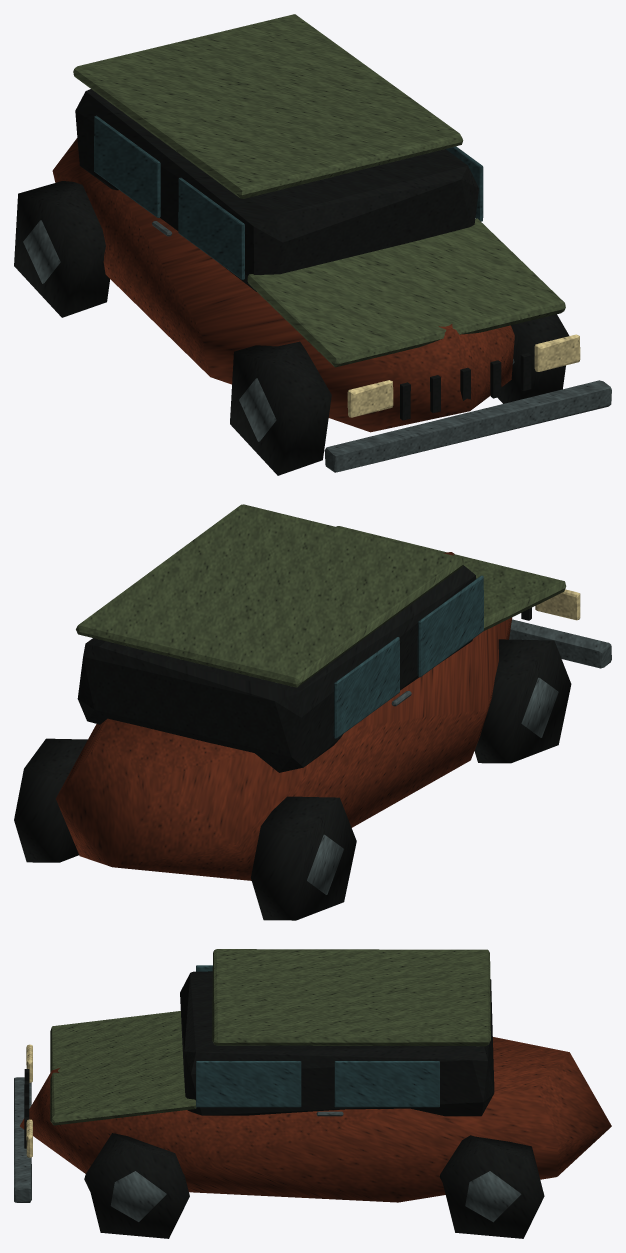
File: car_wreck_lod.glb
3 views of the same model, one above another, from view 1: azimuth 30°, elevation 25°; view 2: azimuth 150°, elevation 25°; view 3: azimuth 270°, elevation 25° (orthographic). The views are drawn at different scales.
Visible parts, largest first — view 1: roof.002, bodywork.002, hood.002, cabin.002, tire.008, tire.009, bumper.002, broken_window.008, broken_window.009, tire.010, headlamp.005, headlamp.004 (+3 smaller); view 2: bodywork.002, roof.002, cabin.002, tire.009, tire.008, tire.011, hood.002, broken_window.008, broken_window.009, bumper.002, hub.008, hub.009 (+1 smaller); view 3: bodywork.002, roof.002, cabin.002, hood.002, tire.011, tire.010, broken_window.010, broken_window.011, bumper.002, hub.011, hub.010.
Part boxes in pixels (x1,y1,x2,y2): roof.002: (73, 14, 463, 198); bodywork.002: (52, 138, 514, 432); hood.002: (247, 218, 565, 367); cabin.002: (75, 89, 478, 291); tire.008: (230, 341, 331, 475); tire.009: (14, 181, 109, 317); bumper.002: (324, 380, 611, 472); broken_window.008: (178, 177, 244, 279); broken_window.009: (94, 115, 160, 217); tire.010: (498, 314, 569, 403); headlamp.005: (534, 334, 580, 371); headlamp.004: (347, 380, 393, 417); bodywork.002: (55, 552, 512, 880); roof.002: (76, 504, 463, 687); cabin.002: (77, 565, 476, 772); tire.009: (251, 796, 356, 920); tire.008: (474, 639, 571, 763); tire.011: (14, 738, 87, 862); hood.002: (336, 526, 566, 630); broken_window.008: (417, 575, 483, 677); broken_window.009: (333, 637, 399, 738); bumper.002: (509, 619, 611, 668); hub.008: (521, 677, 558, 737); hub.009: (307, 834, 343, 894); bodywork.002: (20, 1037, 611, 1202); roof.002: (212, 949, 490, 1046); cabin.002: (180, 971, 494, 1116); hood.002: (50, 1011, 196, 1125); tire.011: (439, 1135, 544, 1238); tire.010: (84, 1133, 189, 1238); broken_window.010: (196, 1061, 301, 1107); broken_window.011: (334, 1061, 439, 1107); bumper.002: (14, 1077, 31, 1202); hub.011: (465, 1171, 521, 1222); hub.010: (110, 1171, 166, 1221).
Size of the model in its own units: 1.89 by 1.46 by 4.18.
6 materials, 6 textured.
